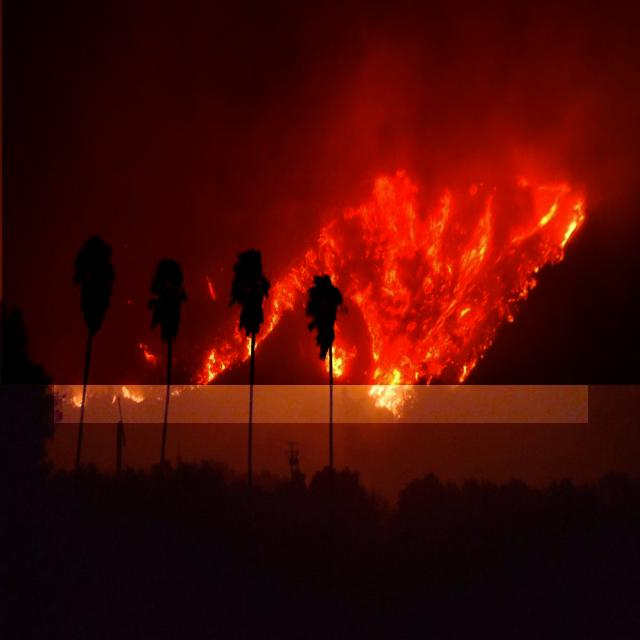Fire: (54, 172, 588, 423)
Smoke: (2, 0, 640, 385)
